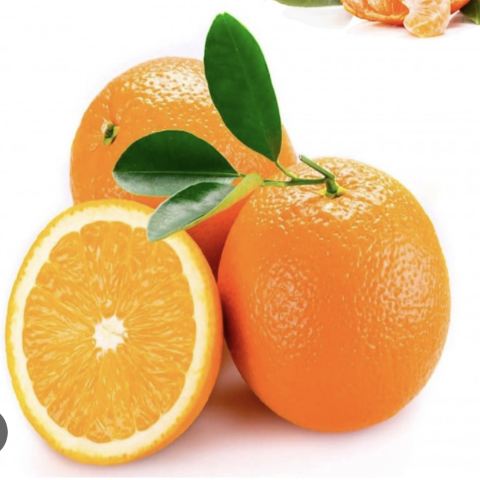orange: (201, 128, 461, 446), (62, 51, 321, 309)
